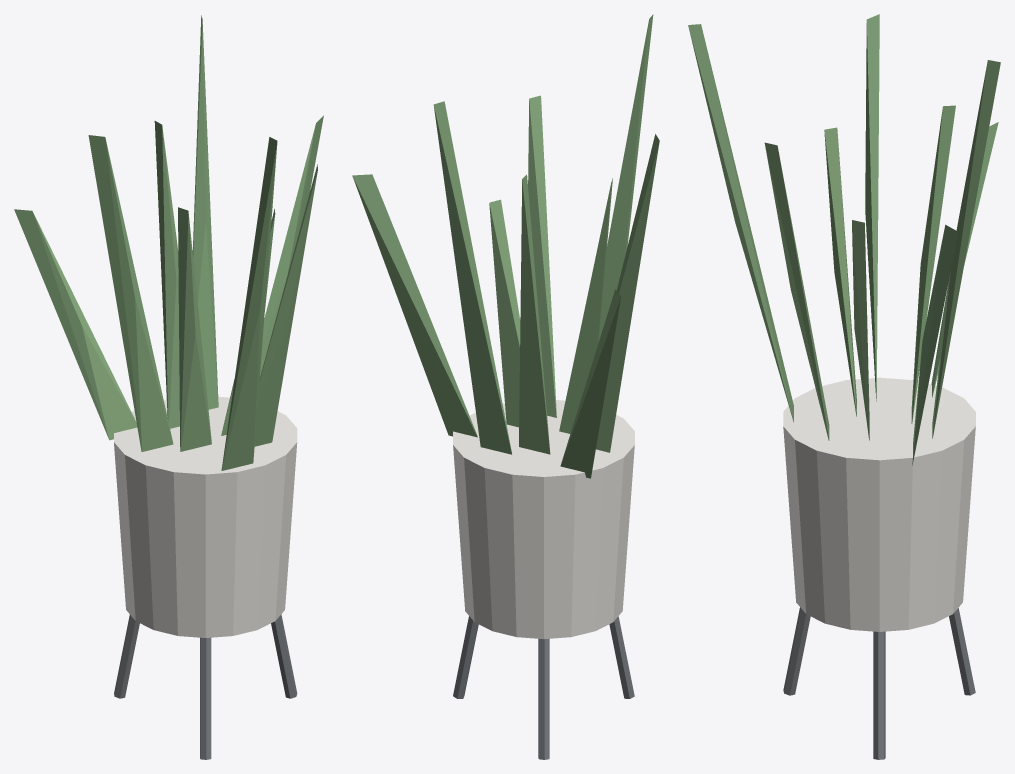
File: plant.glb
3 renders of one model, left to right at view 1: azimuth 30°, elevation 25°; view 2: azimuth 150°, elevation 25°; view 3: azimuth 270°, elevation 25°, orthographic. The views are drawn at different scales.
Parts seen in each view (by area): view 1: plant_plant, plant_pot, plant_steel_d; view 2: plant_plant, plant_pot, plant_steel_d; view 3: plant_pot, plant_plant, plant_steel_d.
Boxes of the visible parts, x1=… form: plant_plant: x1=14, y1=15, x2=323, y2=470; plant_pot: x1=114, y1=396, x2=297, y2=637; plant_steel_d: x1=114, y1=614, x2=297, y2=759; plant_plant: x1=352, y1=14, x2=659, y2=478; plant_pot: x1=453, y1=400, x2=634, y2=638; plant_steel_d: x1=453, y1=616, x2=634, y2=759; plant_pot: x1=783, y1=377, x2=975, y2=631; plant_plant: x1=688, y1=14, x2=1000, y2=465; plant_steel_d: x1=783, y1=607, x2=975, y2=759.
Bounding box in the file's own units: 0.5406 × 1.15 × 0.4799.
